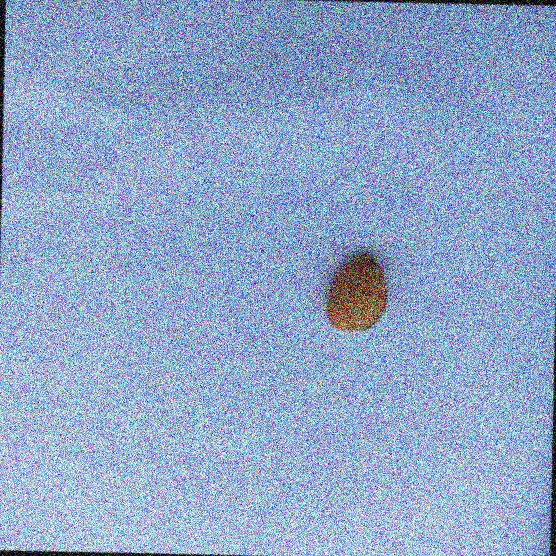grade2: (320, 250, 391, 335)
